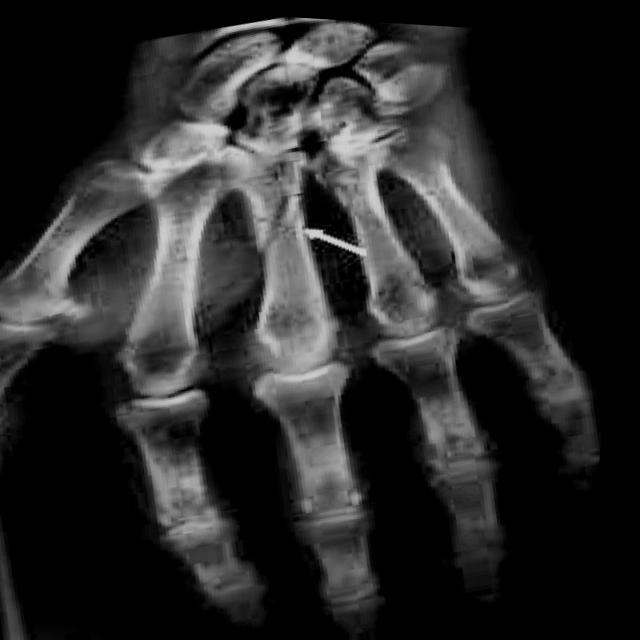fracture: (249, 178, 324, 257)
